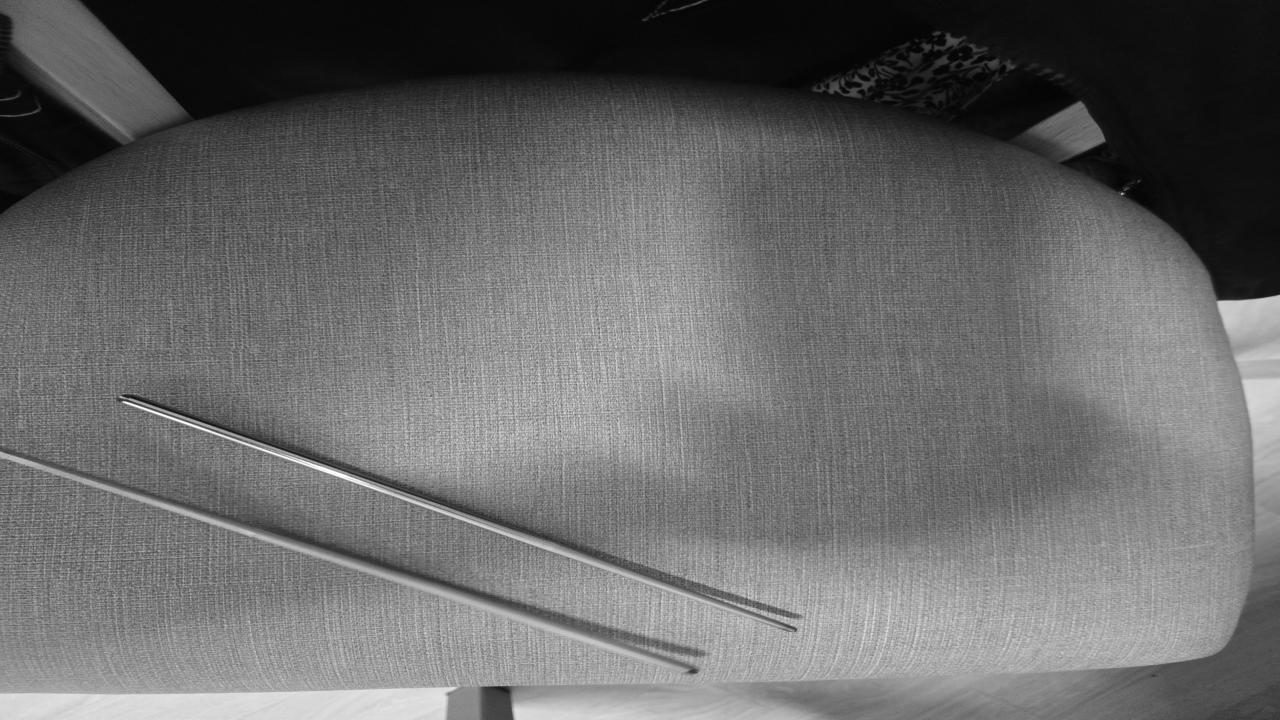chopstick: (0, 388, 805, 679)
